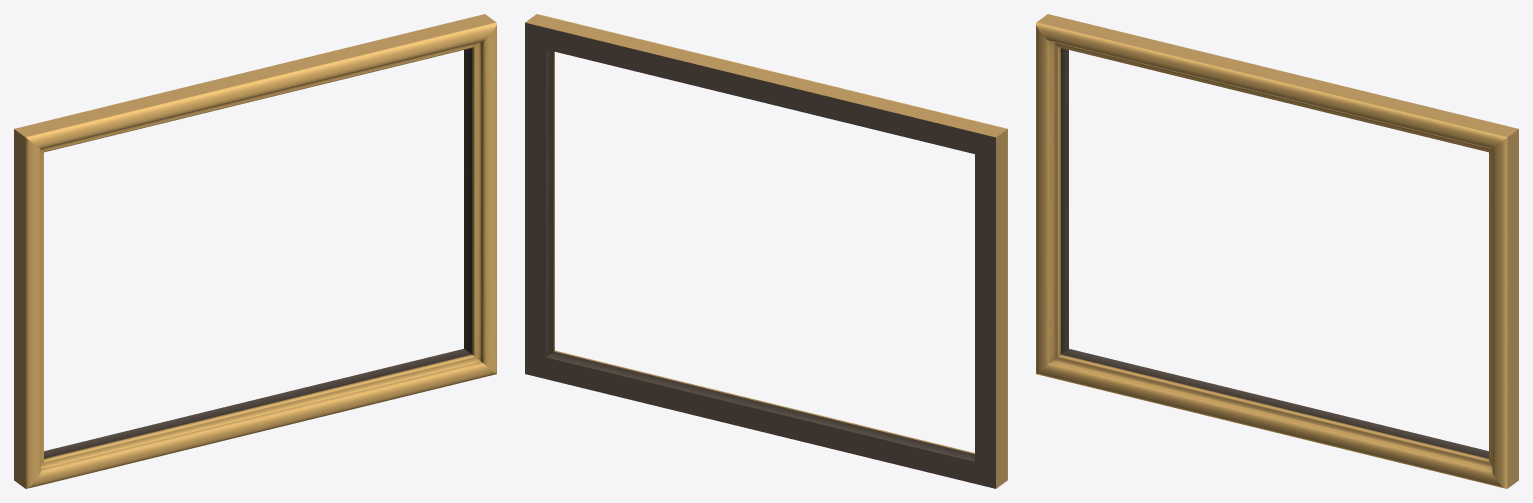
File: 14-tanets.glb
The picture shows the model from 3 angles, left to right: view 1: azimuth 30°, elevation 25°; view 2: azimuth 150°, elevation 25°; view 3: azimuth 330°, elevation 25°; orthographic projection.
Visible parts, largest first — view 1: Frame; view 2: Frame; view 3: Frame.
Part boxes in pixels (x1,y1,x2,y2): Frame: (14,14,496,488); Frame: (525,14,1007,488); Frame: (1036,14,1518,488).
Bounding box in the file's own units: 1.58 × 1.12 × 0.0801.
